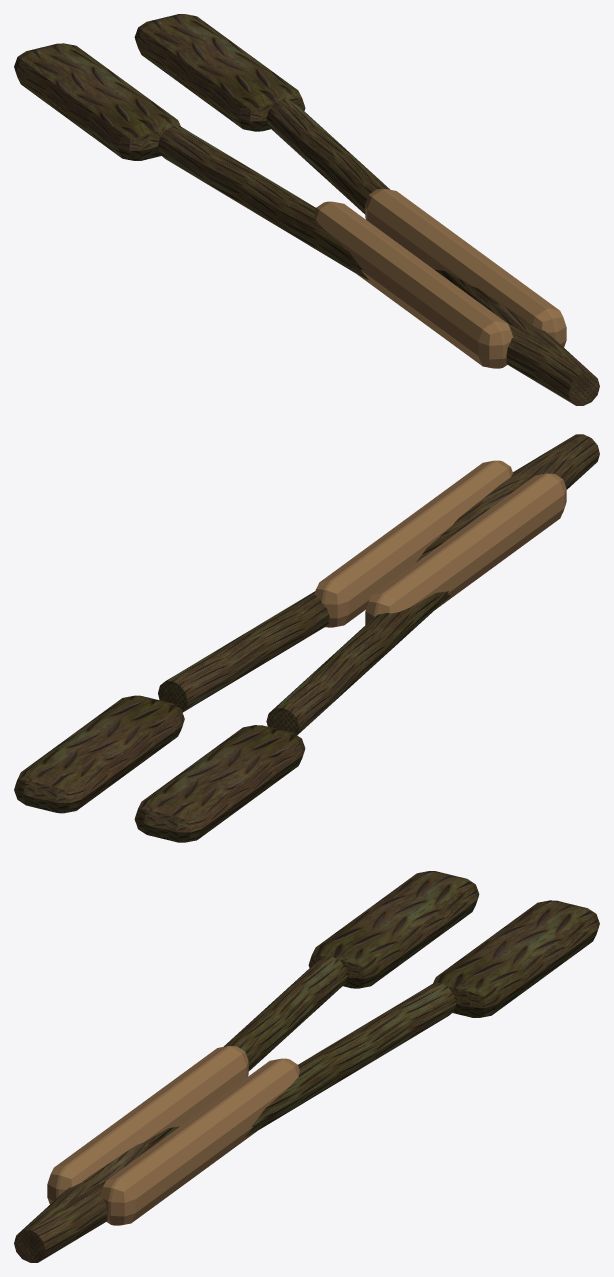
The model's file is tongs.glb.
3 views of the same model, one above another, from view 1: azimuth 30°, elevation 25°; view 2: azimuth 150°, elevation 25°; view 3: azimuth 330°, elevation 25° (orthographic).
Visible parts, largest first — view 1: Spring arm.002, Wood grip.002; view 2: Spring arm.002, Wood grip.002; view 3: Spring arm.002, Wood grip.002.
Boxes of the visible parts, <box> form: Spring arm.002: <box>14,14,599,405</box>; Wood grip.002: <box>314,189,566,368</box>; Spring arm.002: <box>14,434,599,842</box>; Wood grip.002: <box>314,460,566,627</box>; Spring arm.002: <box>14,871,599,1262</box>; Wood grip.002: <box>47,1046,299,1225</box>.
Bounding box in the file's own units: 0.071 × 0.02 × 0.3205.
2 materials, 1 textured.
